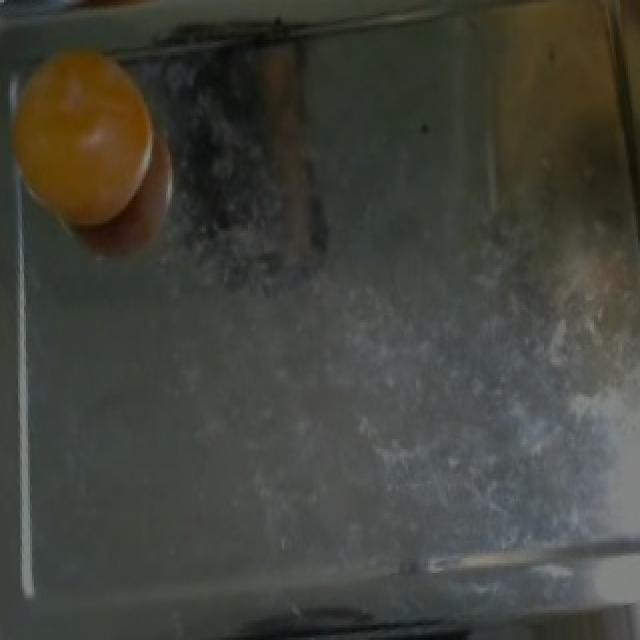Fruit: (2, 25, 166, 238), (590, 0, 640, 201)
